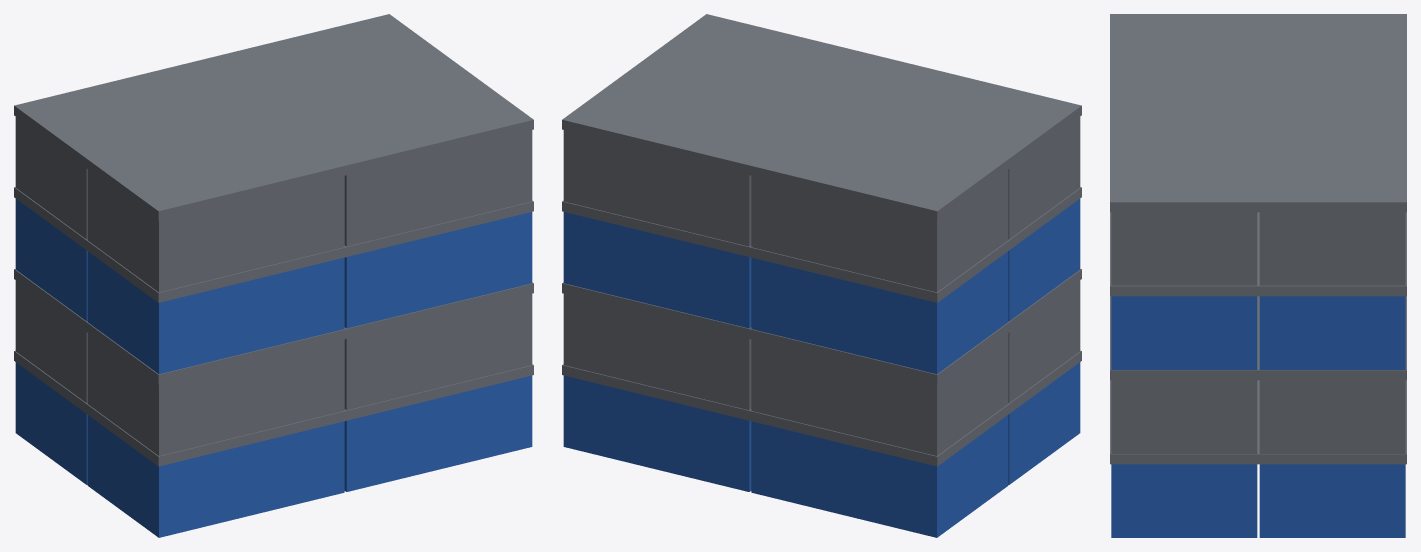
File: load-eur-crates.glb
3 renders of one model, left to right at view 1: azimuth 30°, elevation 25°; view 2: azimuth 150°, elevation 25°; view 3: azimuth 270°, elevation 25°, orthographic. The views are drawn at different scales.
Visible parts, largest first — view 1: load-crates; view 2: load-crates; view 3: load-crates.
Part boxes in pixels (box(x1,y1,x2,y2)): load-crates: box(14, 14, 533, 537); load-crates: box(562, 14, 1081, 537); load-crates: box(1110, 14, 1406, 537).
Bounding box in the file's own units: 1.2 × 1 × 0.8.
